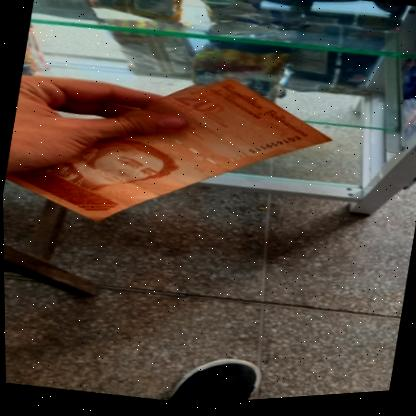twenty-front-vef: (1, 38, 340, 268)
